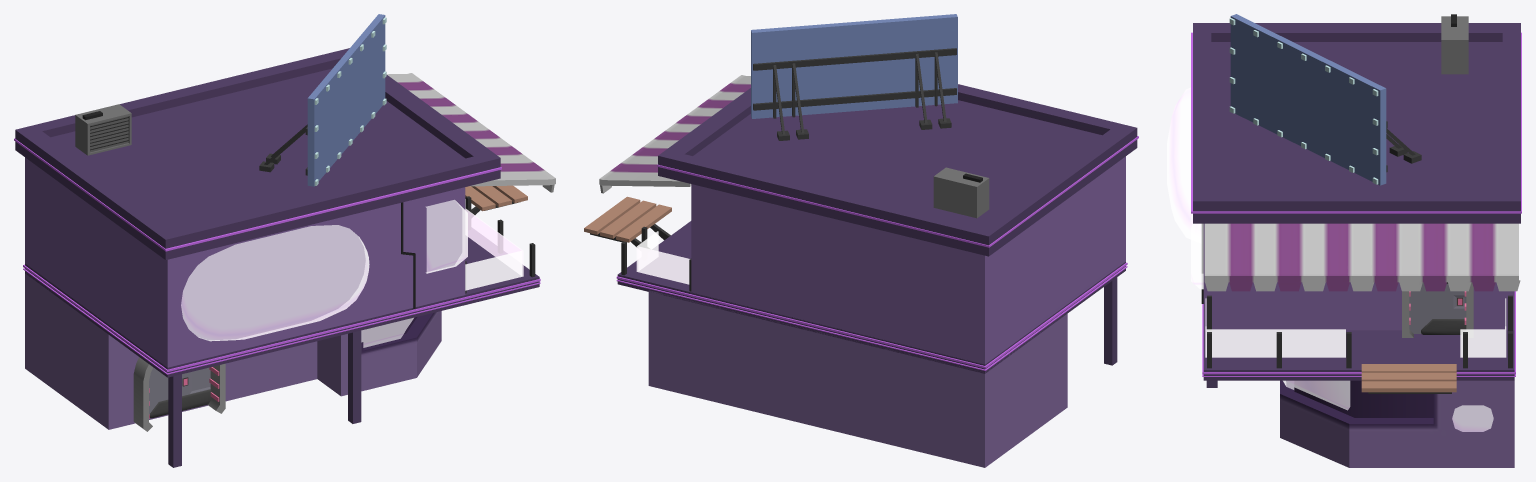
Rendered from Plaza_Bar_01.fbx.
3 views of the same model, side by side, from view 1: azimuth 30°, elevation 25°; view 2: azimuth 150°, elevation 25°; view 3: azimuth 270°, elevation 25° (orthographic). The views are drawn at different scales.
Visible parts, largest first — view 1: Plaza_Bar_01; view 2: Plaza_Bar_01; view 3: Plaza_Bar_01.
Part boxes in pixels (x1,y1,x2,y2): Plaza_Bar_01: (14,14,555,467); Plaza_Bar_01: (584,14,1138,467); Plaza_Bar_01: (1167,14,1521,467).
Size of the model in its own units: 37.85 by 26.92 by 24.24.
3 materials, 2 textured.
